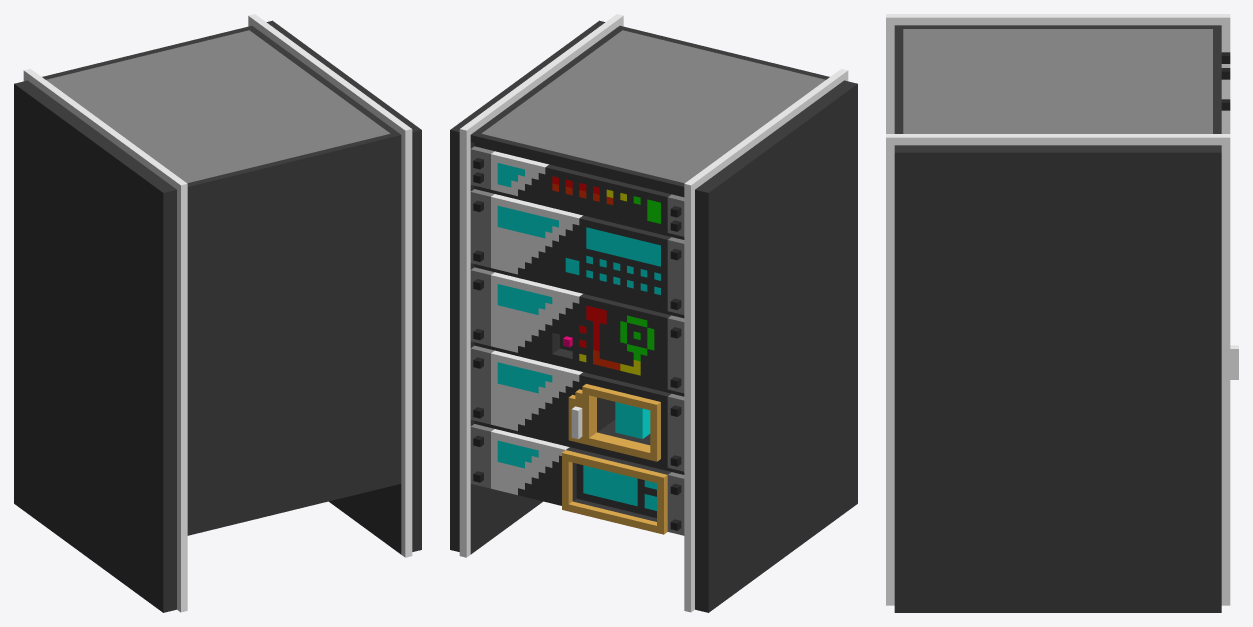
The model's file is Environment_UntiledLabs_Furniture-5.obj.
The picture shows the model from 3 angles, left to right: view 1: azimuth 30°, elevation 25°; view 2: azimuth 150°, elevation 25°; view 3: azimuth 270°, elevation 25°; orthographic projection. The views are drawn at different scales.
Bounding box in the file's own units: 3.8 × 6 × 4.1.
Materials: 1 (1 with a texture image).
